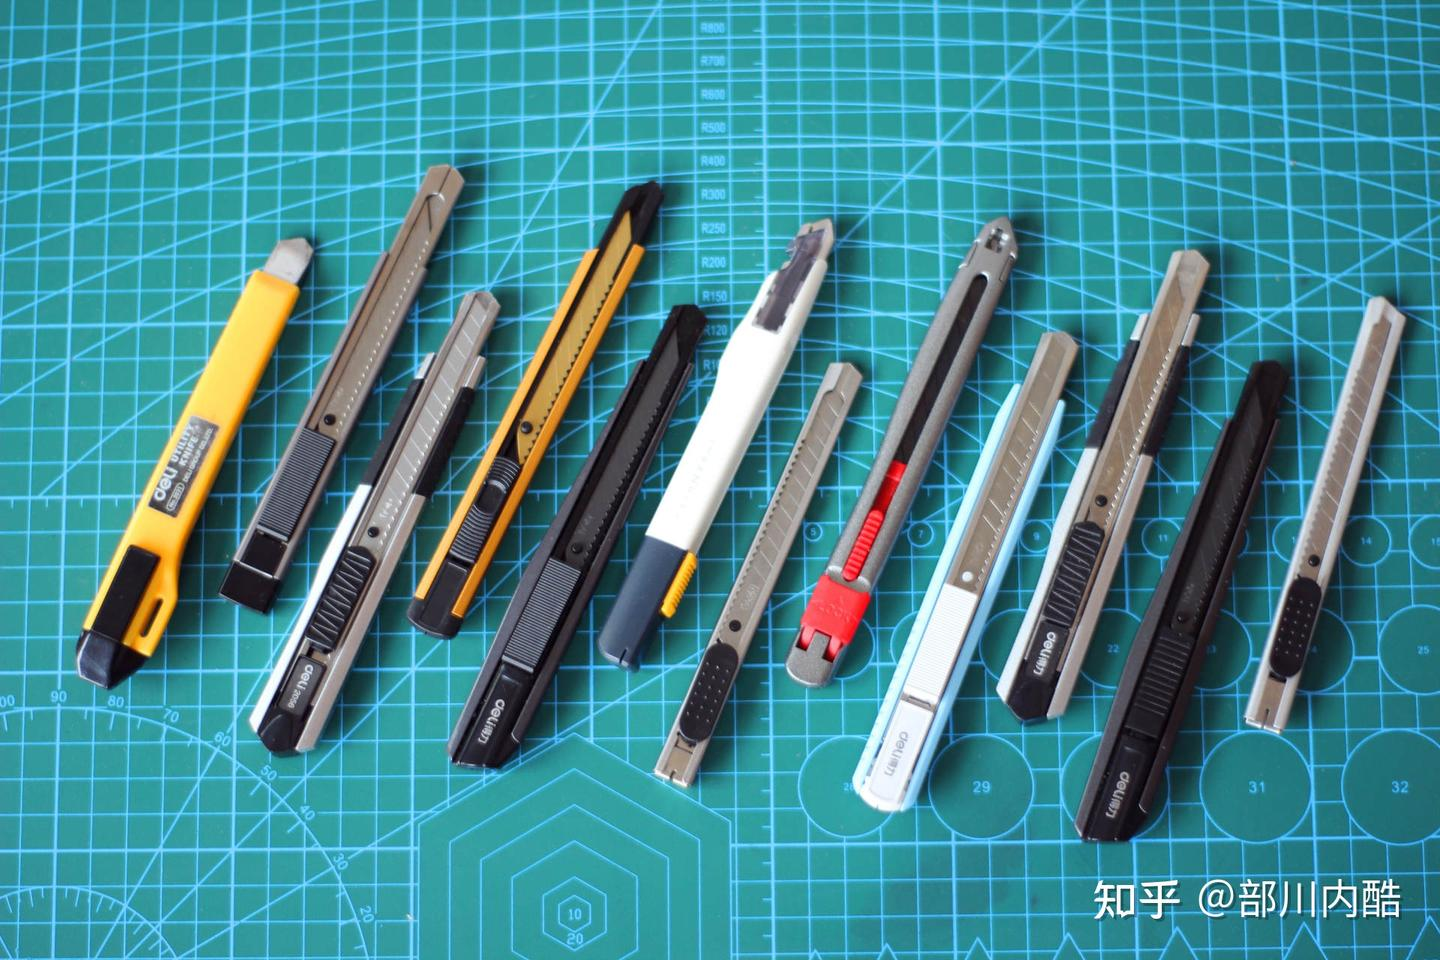cutter: (442, 298, 714, 770), (400, 175, 673, 640), (245, 286, 506, 754), (212, 159, 472, 615), (588, 215, 843, 670), (849, 325, 1083, 815), (780, 212, 1020, 689), (72, 232, 319, 690), (1076, 356, 1292, 846), (995, 246, 1212, 725), (647, 359, 864, 792), (1237, 292, 1411, 733)
